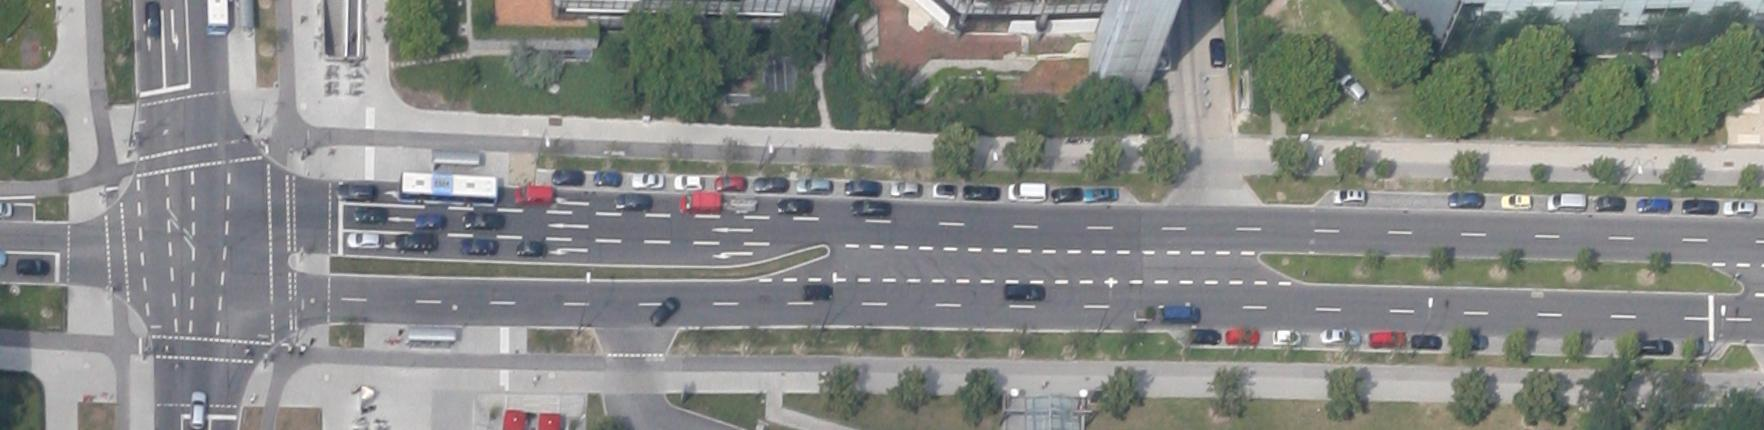car: (1336, 72, 1368, 104), (648, 296, 680, 327), (679, 192, 720, 214), (396, 232, 436, 253), (464, 211, 506, 231), (514, 184, 552, 206), (850, 198, 889, 218), (1547, 192, 1586, 212), (143, 1, 162, 41), (338, 182, 376, 202), (1008, 182, 1046, 202), (615, 192, 652, 212), (1004, 284, 1044, 302), (1320, 328, 1360, 346), (1160, 306, 1200, 323), (354, 205, 388, 225), (15, 258, 50, 277), (844, 179, 880, 197), (189, 391, 206, 429), (1368, 331, 1405, 348), (460, 239, 498, 255), (776, 198, 812, 214), (1448, 192, 1484, 208), (1208, 37, 1226, 68), (346, 232, 380, 248), (1410, 333, 1442, 350), (1640, 338, 1672, 355), (516, 239, 546, 257), (1682, 199, 1718, 214), (963, 185, 999, 200), (554, 168, 584, 186), (1332, 188, 1365, 204), (1500, 193, 1531, 210), (415, 212, 444, 230), (1272, 328, 1301, 346), (1189, 328, 1221, 344), (1722, 200, 1754, 216), (754, 176, 786, 192), (1636, 198, 1670, 213), (632, 173, 663, 189), (1226, 329, 1259, 344), (1084, 186, 1117, 201), (796, 178, 829, 193), (1594, 195, 1624, 211), (890, 180, 920, 196), (716, 176, 746, 192), (802, 284, 832, 300), (1052, 186, 1081, 202), (728, 198, 756, 214), (594, 170, 620, 187), (674, 174, 701, 190), (932, 182, 955, 198), (1132, 308, 1154, 322)
